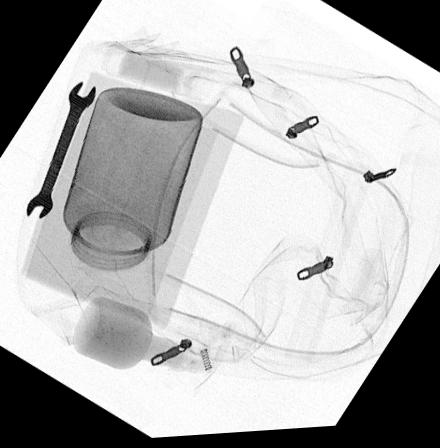Wrench: (25, 82, 96, 221)
